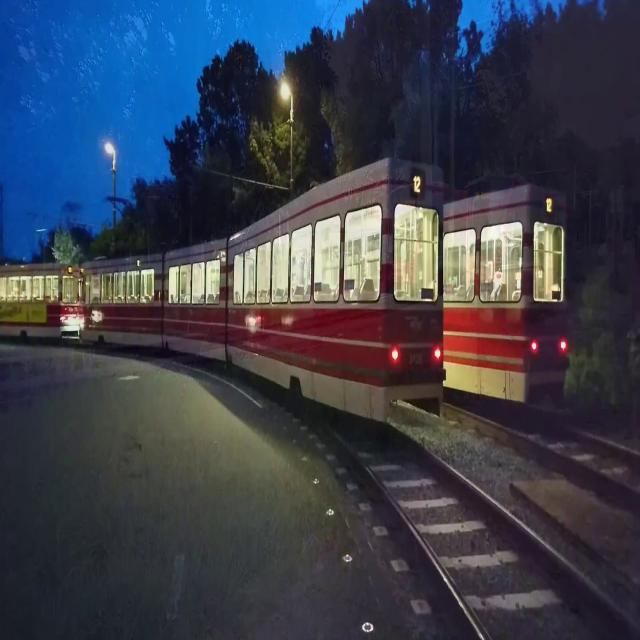rail-track: (342, 425, 640, 639), (460, 404, 640, 488)
